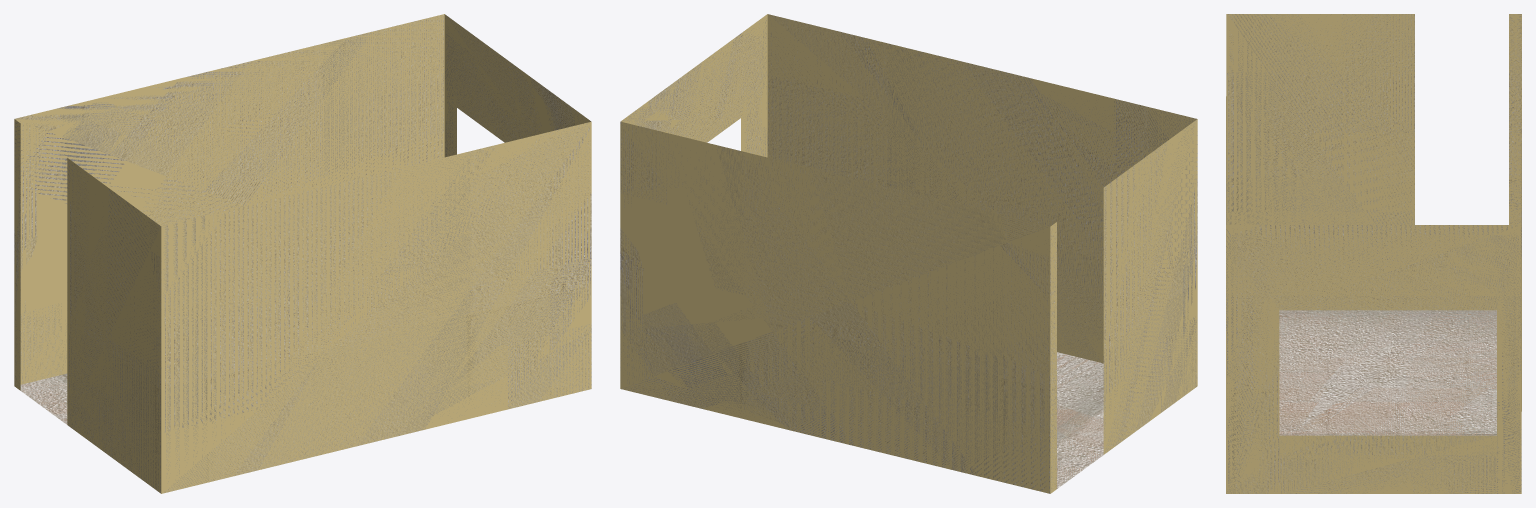
The model's file is DES005.obj.
The picture shows the model from 3 angles, left to right: view 1: azimuth 30°, elevation 25°; view 2: azimuth 150°, elevation 25°; view 3: azimuth 270°, elevation 25°; orthographic projection.
Visible parts, largest first — view 1: Mesh1 DES005 Model; view 2: Mesh1 DES005 Model; view 3: Mesh1 DES005 Model.
Boxes of the visible parts, x1=… form: Mesh1 DES005 Model: x1=14, y1=14, x2=591, y2=493; Mesh1 DES005 Model: x1=620, y1=14, x2=1197, y2=493; Mesh1 DES005 Model: x1=1226, y1=14, x2=1521, y2=493.
Size of the model in its own units: 5.05 by 3 by 2.99.
3 materials, 2 textured.
